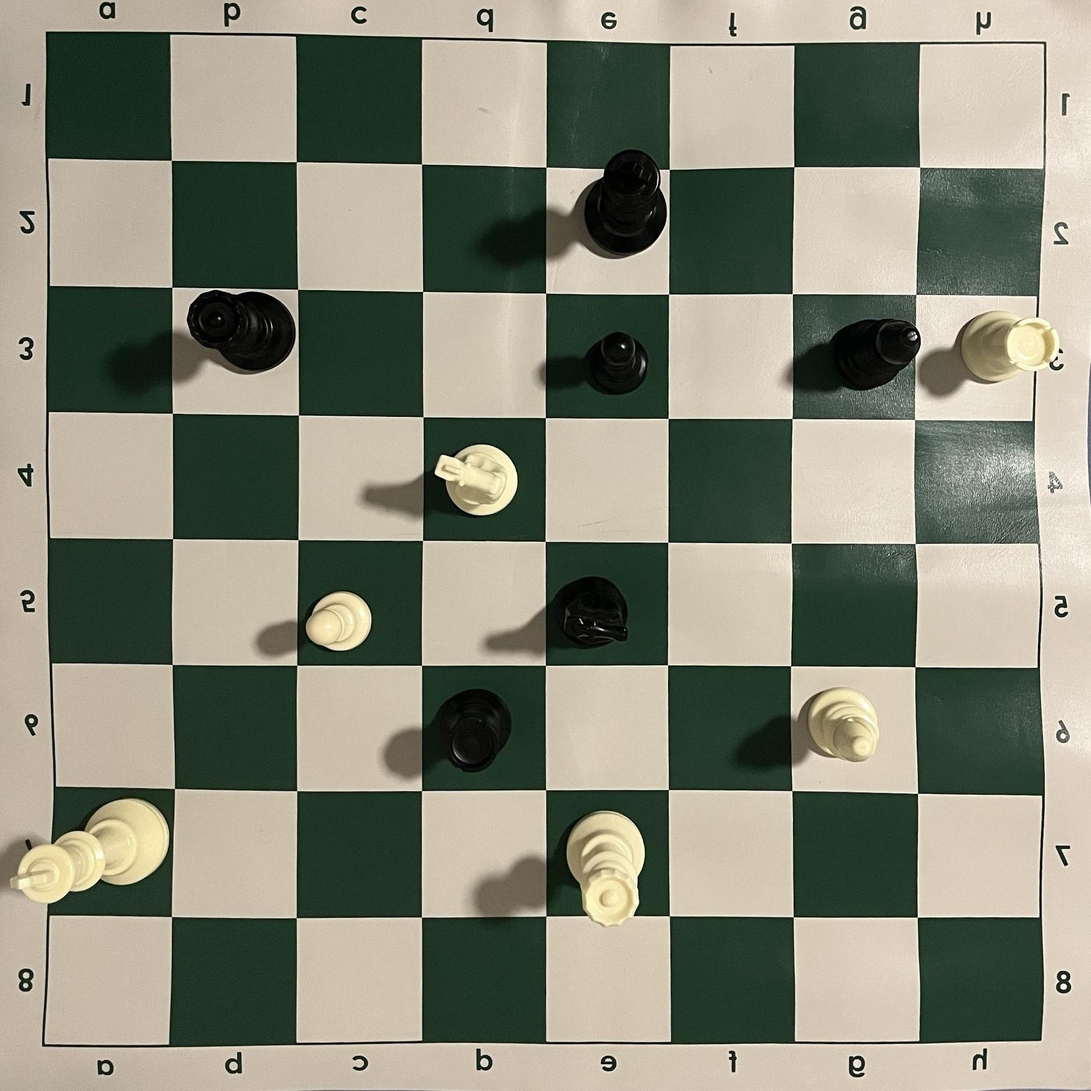black_bishop: (832, 318, 922, 390)
black_king: (584, 149, 668, 258)
black_knight: (555, 576, 629, 649)
black_pawn: (589, 332, 649, 396)
black_queen: (187, 290, 296, 373)
black_rook: (432, 688, 512, 775)
white_bishop: (807, 686, 881, 764)
white_king: (10, 797, 171, 905)
white_knight: (434, 444, 519, 517)
white_pawn: (305, 591, 372, 652)
white_queen: (566, 810, 647, 928)
white_rook: (960, 310, 1061, 383)
